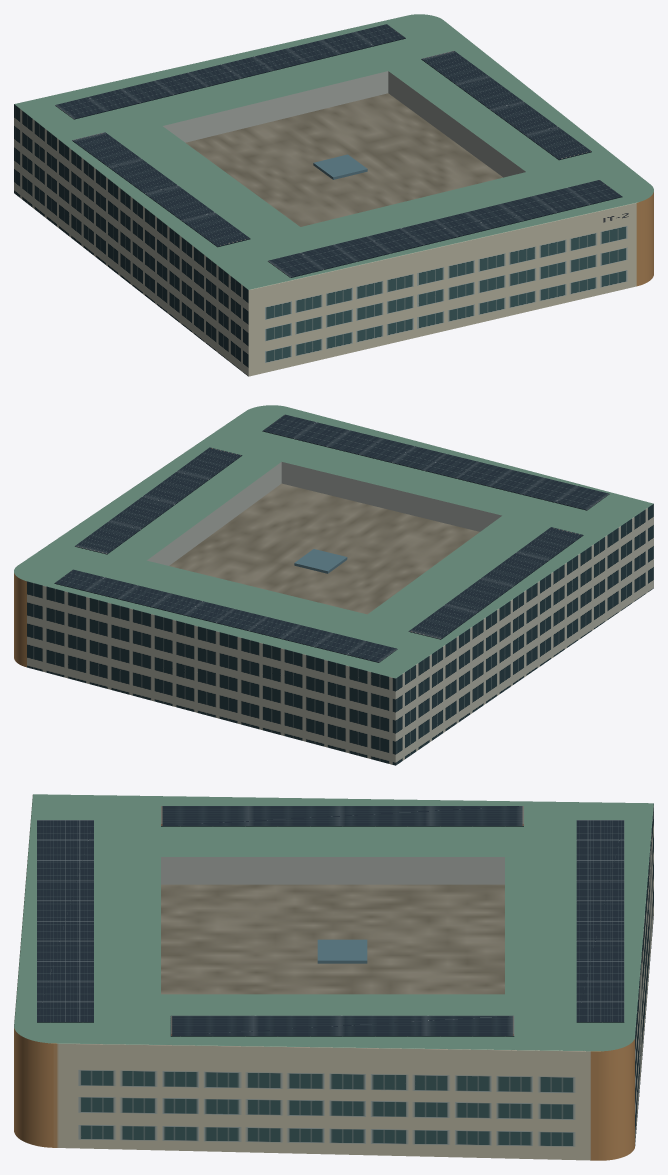
Rendered from intact.glb.
3 renders of one model, top to bottom at view 1: azimuth 30°, elevation 25°; view 2: azimuth 150°, elevation 25°; view 3: azimuth 270°, elevation 25°, orthographic. The views are drawn at different scales.
Visible parts, largest first — view 1: SM_IT2R8_Intact; view 2: SM_IT2R8_Intact; view 3: SM_IT2R8_Intact.
Part boxes in pixels (x1,y1,x2,y2): SM_IT2R8_Intact: (14, 14, 653, 376); SM_IT2R8_Intact: (14, 405, 653, 765); SM_IT2R8_Intact: (14, 794, 653, 1160).
Bounding box in the file's own units: 2.09 × 0.4233 × 2.2.
Materials: 7 (3 with a texture image).
